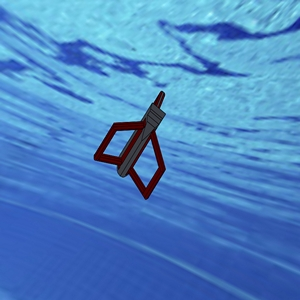submarine: (65, 78, 194, 223)
